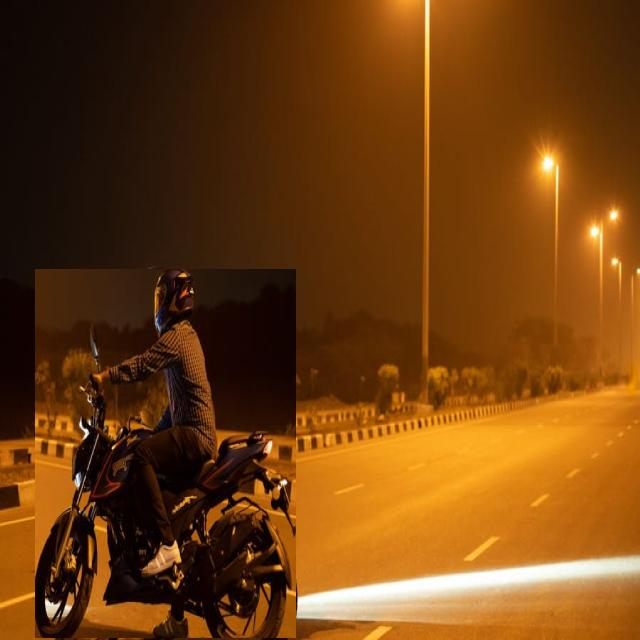motorcycle: (35, 269, 296, 638)
